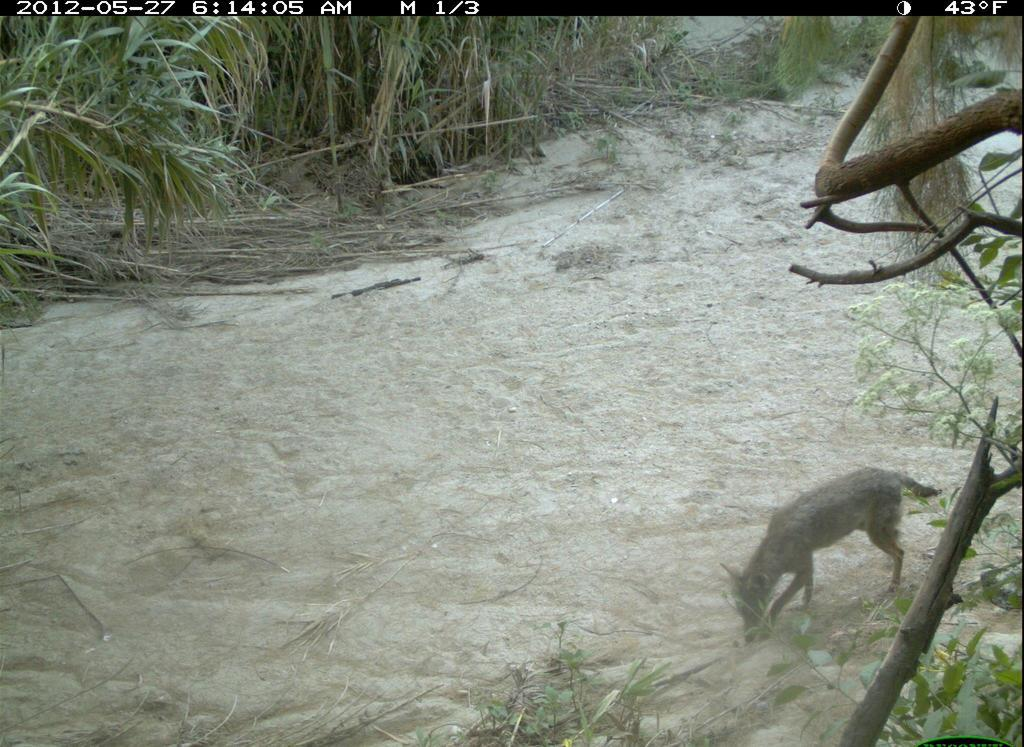coyote: (725, 463, 943, 648)
